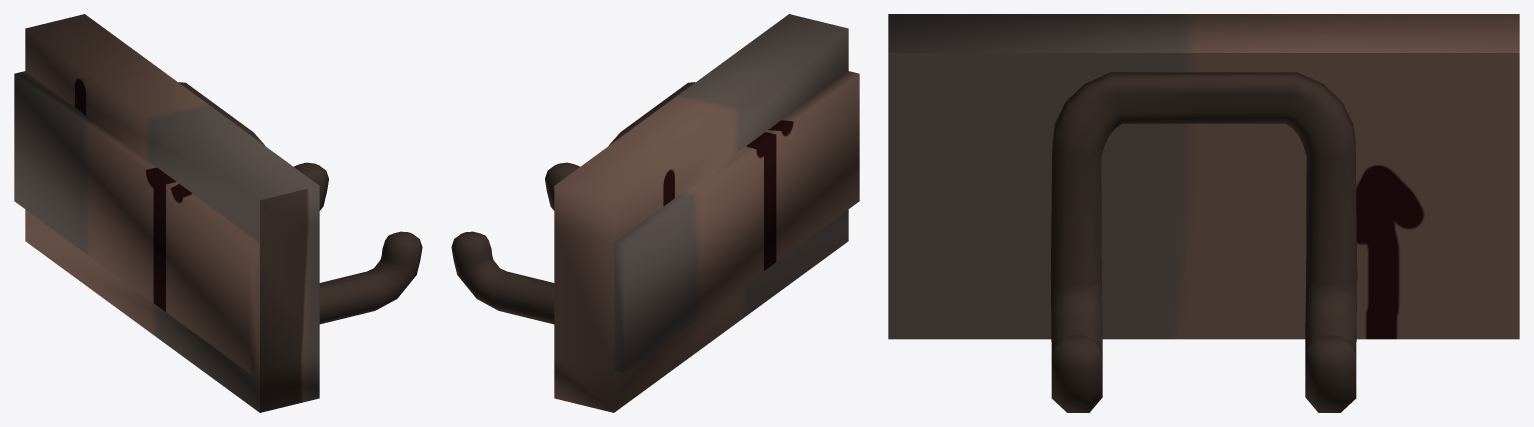
Rendered from SM_Toolrack.fbx.
3 views of the same model, side by side, from view 1: azimuth 30°, elevation 25°; view 2: azimuth 150°, elevation 25°; view 3: azimuth 270°, elevation 25° (orthographic). The views are drawn at different scales.
Visible parts, largest first — view 1: Toolrack; view 2: Toolrack; view 3: Toolrack.
Boxes of the visible parts, <box> form: Toolrack: <box>14,14,422,412</box>; Toolrack: <box>451,14,859,412</box>; Toolrack: <box>888,14,1519,412</box>.
Bounding box in the file's own units: 23.61 × 20 × 40.
